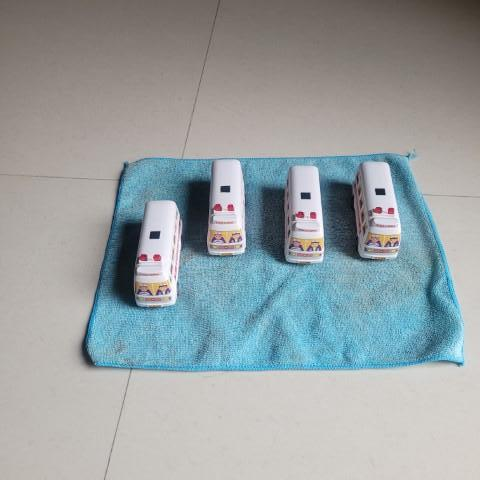ambulance: (130, 198, 186, 310), (349, 157, 403, 263), (280, 159, 329, 271), (206, 157, 249, 260)
